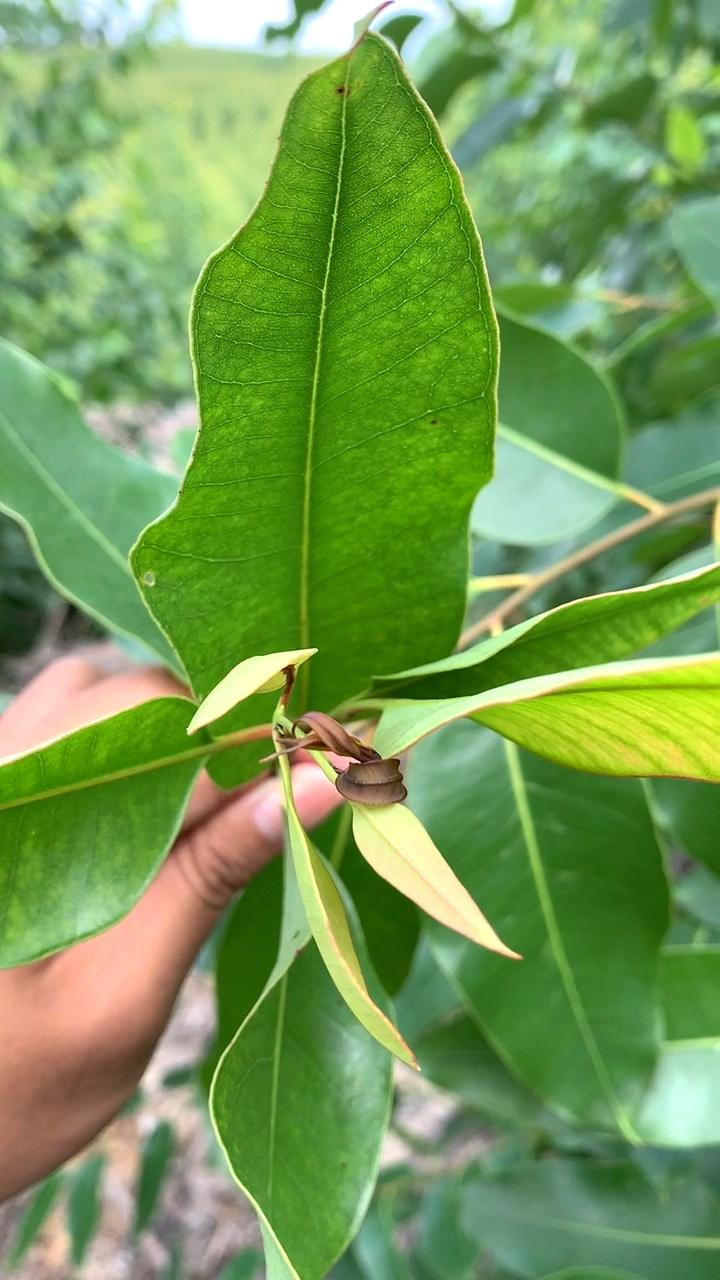Helopeltis-Withered Sprout: (289, 709, 410, 810)
